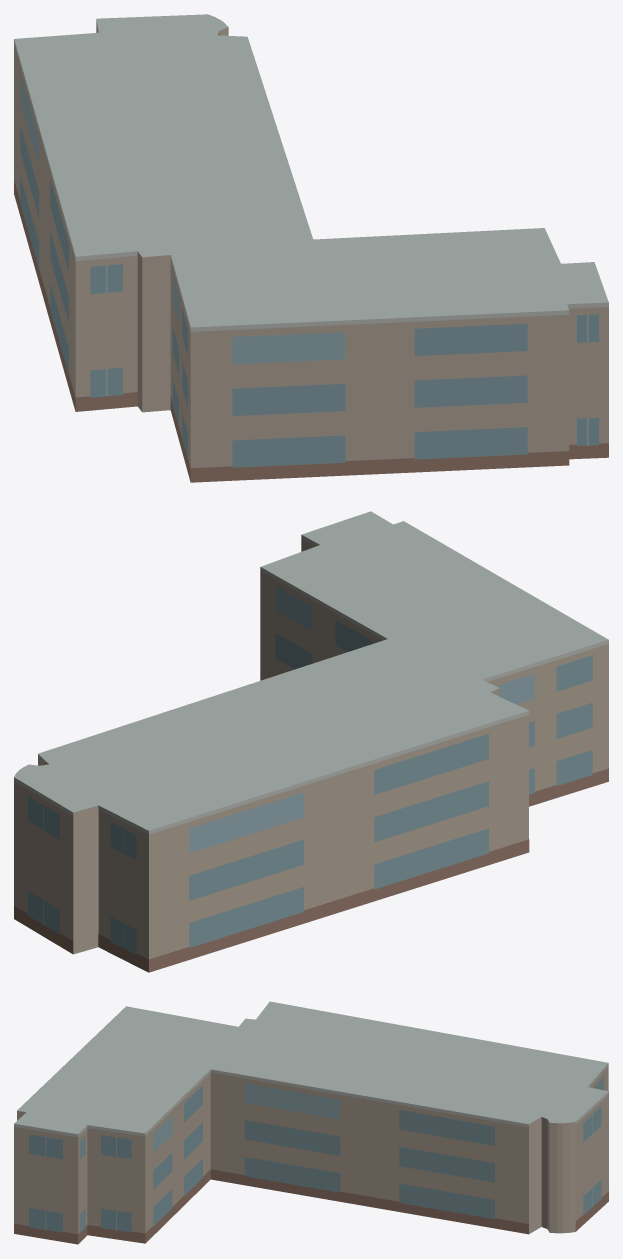
Rendered from survey-upis-32847555.glb.
The picture shows the model from 3 angles, top to bottom: view 1: azimuth 30°, elevation 25°; view 2: azimuth 150°, elevation 25°; view 3: azimuth 270°, elevation 25°; orthographic projection. The views are drawn at different scales.
Parts seen in each view (by area): view 1: survey-upis-32847555.tmp; view 2: survey-upis-32847555.tmp; view 3: survey-upis-32847555.tmp.
Part boxes in pixels (x1,y1,x2,y2): survey-upis-32847555.tmp: (14,14,608,482); survey-upis-32847555.tmp: (14,511,608,972); survey-upis-32847555.tmp: (14,1001,608,1244).
Size of the model in its own units: 22.28 by 8.6 by 42.12.
